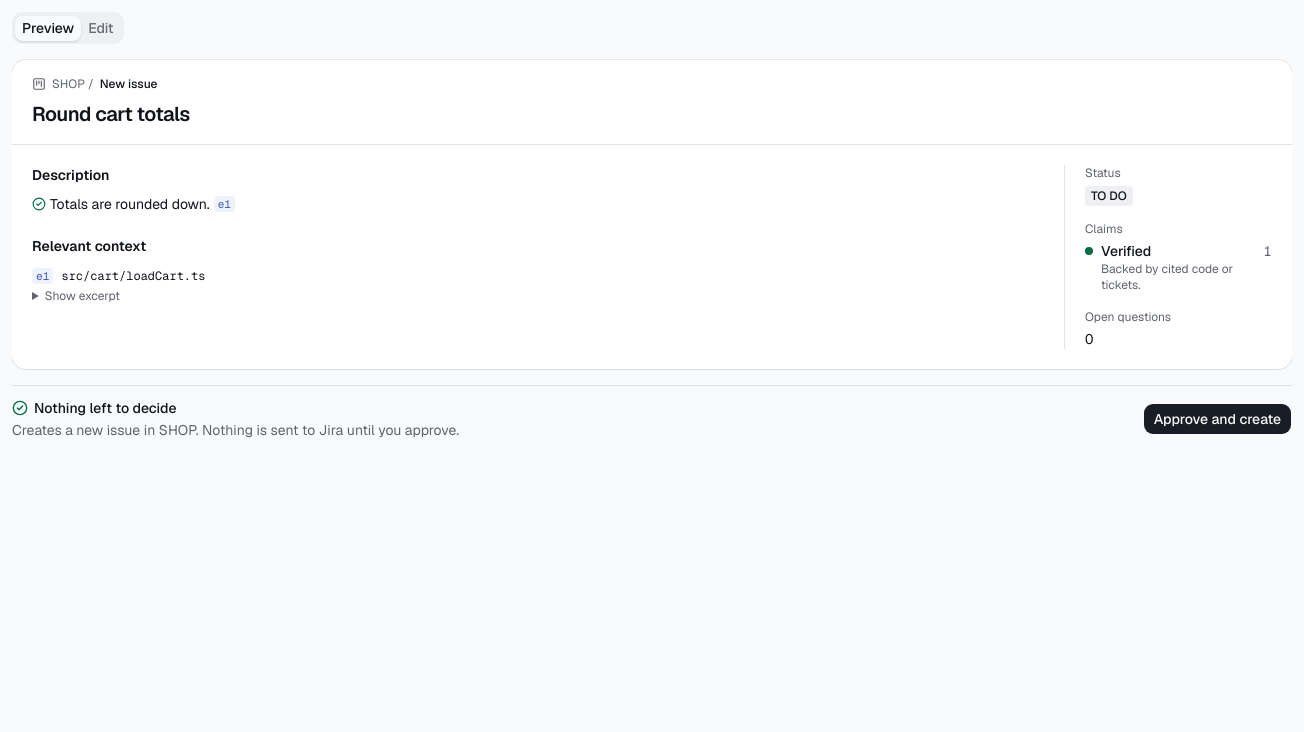
DraftWorkspace › shows when an autosave failed, and keeps only finished items in what it sends
The width and height of the screenshot is (1304, 732).
Click the tab "Edit" at [101, 28], box [81,16,120,40]
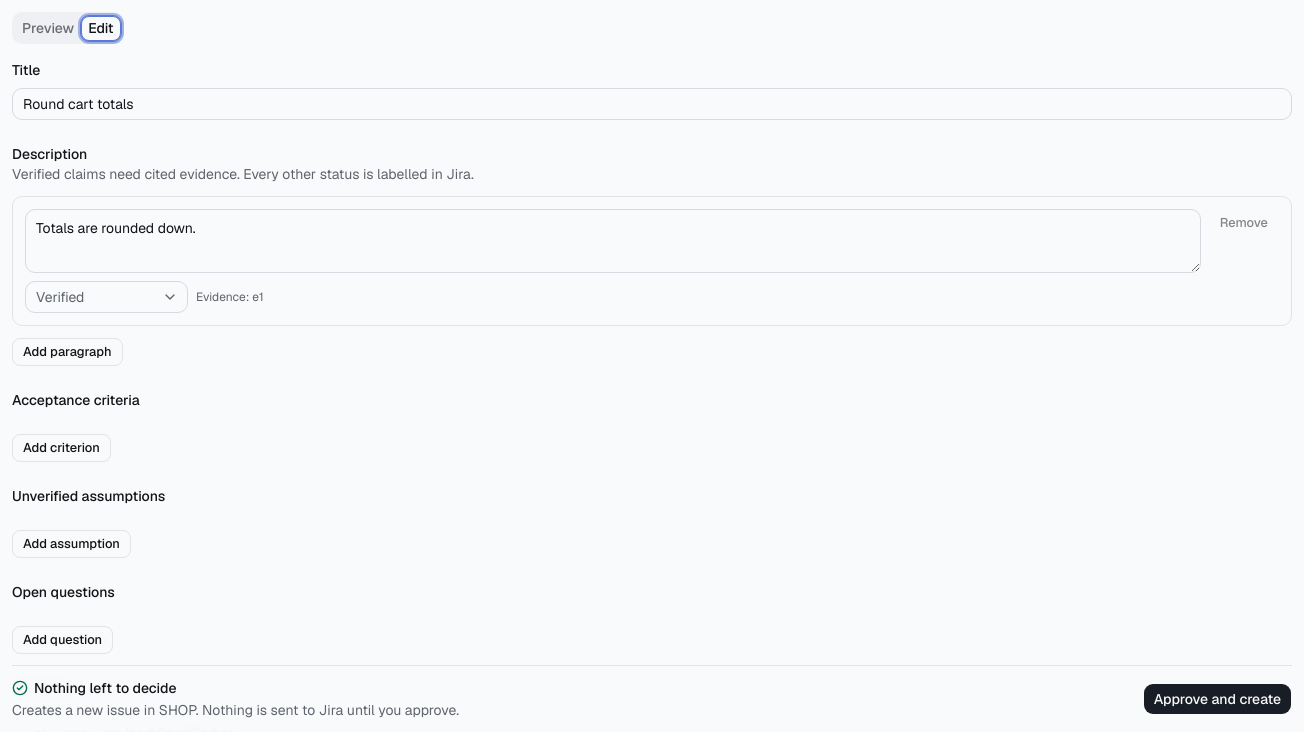
Click the button "Add criterion" at [61, 448], box [12,434,111,462]
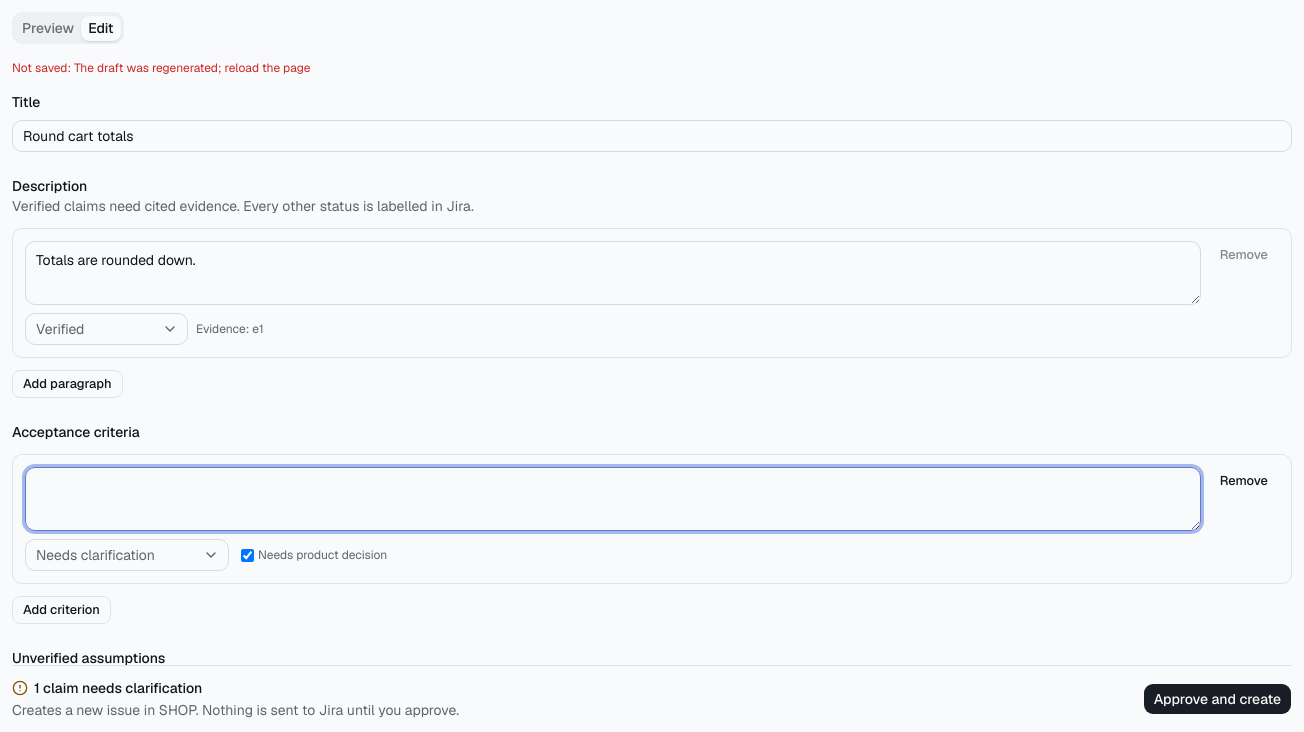
Check: the message shows "Not saved: The draft was regenerated", box [12,60,311,76]
